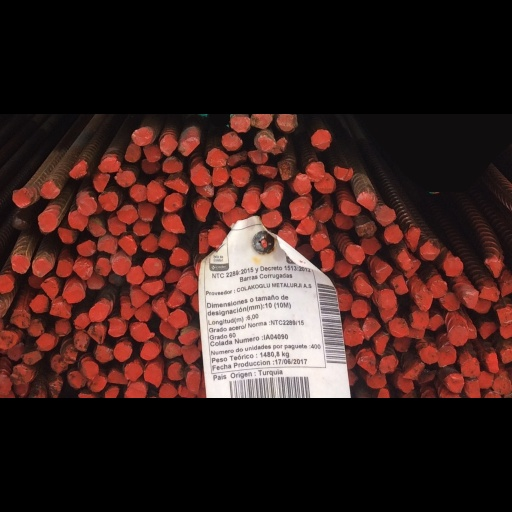dipstick: (222, 207, 249, 230), (341, 324, 364, 347), (289, 196, 311, 220), (371, 260, 393, 284), (343, 244, 366, 266), (353, 217, 377, 238), (355, 349, 376, 373), (313, 172, 335, 194), (253, 132, 276, 153), (353, 274, 374, 297), (177, 273, 198, 296), (36, 212, 57, 234), (110, 254, 131, 276), (158, 135, 178, 158), (358, 236, 381, 256), (162, 214, 185, 234), (62, 284, 85, 304), (130, 127, 154, 146), (414, 286, 433, 310), (362, 317, 381, 341), (130, 321, 154, 340), (310, 128, 331, 149), (142, 256, 163, 277), (11, 188, 33, 208), (279, 224, 299, 246), (146, 182, 165, 205), (49, 301, 72, 320), (193, 198, 211, 222), (318, 248, 335, 273), (184, 367, 201, 392), (357, 191, 377, 212), (374, 207, 395, 227), (443, 256, 464, 276), (439, 291, 460, 311), (389, 274, 409, 295), (143, 364, 163, 385), (59, 342, 79, 363), (213, 194, 235, 213), (437, 346, 456, 368), (294, 217, 316, 236), (116, 204, 138, 223), (106, 216, 128, 235), (38, 181, 61, 199), (337, 198, 360, 216), (260, 210, 283, 228), (372, 331, 389, 355), (335, 288, 352, 312), (496, 270, 512, 295), (444, 372, 464, 392), (404, 361, 424, 381), (350, 298, 370, 318), (207, 229, 227, 249), (72, 331, 92, 351), (11, 253, 31, 273), (207, 150, 228, 169), (461, 357, 480, 378), (151, 299, 170, 320), (28, 293, 49, 312), (178, 138, 200, 156), (242, 192, 260, 214), (142, 278, 164, 296), (49, 354, 71, 372), (10, 365, 32, 383), (79, 361, 102, 378), (230, 168, 250, 187), (420, 239, 439, 259), (477, 321, 497, 340), (448, 325, 467, 345), (168, 308, 188, 327), (166, 362, 186, 381), (98, 236, 118, 255), (73, 260, 93, 279), (113, 343, 133, 362), (86, 324, 106, 343), (306, 162, 324, 183), (277, 160, 295, 181), (92, 172, 110, 193), (162, 194, 183, 212), (411, 310, 429, 331), (417, 345, 438, 363), (376, 289, 397, 307), (333, 212, 354, 230), (177, 328, 198, 346), (75, 239, 96, 257), (89, 304, 110, 322), (139, 341, 160, 359), (92, 345, 113, 363), (167, 177, 189, 194), (388, 319, 410, 336), (379, 355, 398, 374), (159, 320, 178, 339), (67, 212, 87, 230), (293, 174, 311, 194), (381, 224, 401, 242), (136, 202, 156, 220), (179, 345, 199, 363), (126, 266, 146, 284), (106, 318, 126, 336), (32, 258, 52, 276), (191, 168, 212, 185), (296, 243, 317, 260), (55, 257, 72, 278), (66, 371, 87, 388), (36, 333, 57, 350), (463, 287, 479, 309), (486, 256, 502, 278), (128, 289, 150, 305), (210, 167, 229, 185), (493, 375, 512, 393), (462, 380, 481, 398), (429, 279, 447, 298), (117, 236, 136, 254), (94, 257, 112, 276), (40, 280, 59, 298), (98, 194, 118, 211), (88, 217, 105, 237), (52, 319, 72, 336), (99, 157, 120, 173), (484, 352, 500, 373), (168, 249, 189, 265), (123, 363, 144, 379), (114, 172, 136, 187), (405, 226, 420, 248), (398, 249, 413, 271), (196, 231, 211, 253), (20, 349, 42, 364), (124, 144, 142, 162), (129, 184, 147, 202), (315, 205, 333, 223), (55, 227, 73, 245), (70, 160, 89, 177), (144, 145, 161, 164), (277, 115, 296, 132), (334, 164, 353, 181), (261, 192, 280, 209), (10, 310, 29, 327), (219, 135, 242, 149), (366, 372, 386, 388), (311, 234, 331, 250), (139, 235, 159, 251), (229, 117, 250, 132), (251, 114, 273, 128), (256, 165, 278, 179), (476, 372, 494, 389), (474, 296, 491, 314), (403, 260, 421, 277), (397, 375, 415, 392), (334, 259, 352, 276), (159, 234, 177, 251), (167, 290, 184, 308), (73, 313, 91, 330), (26, 319, 44, 336), (77, 199, 96, 215), (392, 335, 411, 351), (133, 305, 152, 321), (480, 287, 500, 302), (405, 325, 425, 340), (84, 274, 104, 289), (87, 376, 107, 391), (378, 308, 399, 322), (131, 219, 149, 235), (0, 376, 13, 398), (29, 383, 48, 398), (464, 322, 478, 342), (140, 162, 163, 174), (161, 159, 182, 172), (124, 385, 145, 398), (163, 342, 180, 358), (106, 369, 123, 385), (107, 272, 125, 287), (12, 383, 30, 398), (428, 314, 444, 330), (48, 379, 64, 395), (497, 307, 512, 324), (0, 332, 15, 349), (194, 185, 215, 197), (177, 385, 196, 398), (159, 384, 178, 397), (272, 138, 288, 153), (247, 151, 267, 163), (500, 345, 512, 365), (421, 369, 436, 385), (164, 269, 180, 283), (346, 348, 356, 370), (0, 275, 12, 293), (8, 345, 22, 360), (228, 154, 247, 165), (102, 387, 121, 398), (120, 305, 134, 319), (499, 324, 512, 339), (28, 275, 43, 288), (347, 369, 359, 385), (441, 388, 460, 398), (191, 293, 201, 311), (419, 387, 435, 398), (482, 390, 501, 398), (377, 388, 390, 398), (93, 202, 104, 213), (79, 392, 99, 398)
